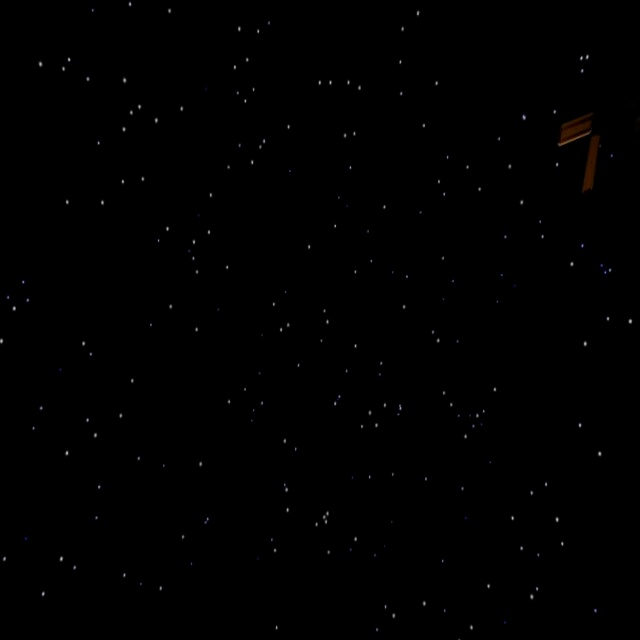medium_debris: (543, 72, 640, 202)
